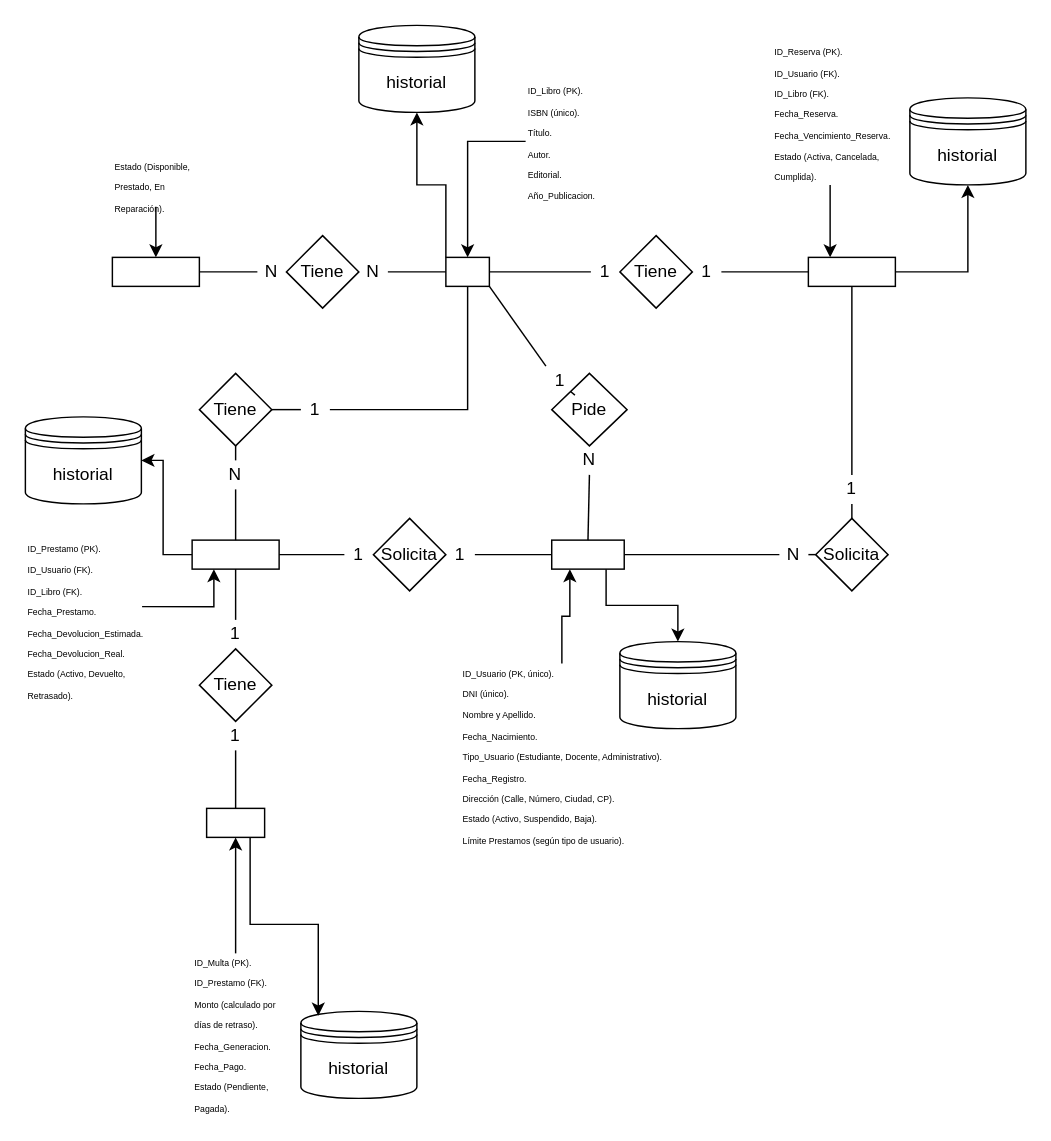
This 1051x1141 diagram has some shape labels left out. Each missing label, with the centre of its shape:
Categoria: (155,271)
Libro: (466,271)
Multas: (235,822)
Prestamo: (235,554)
Reservas: (851,271)
Usuario: (587,554)
